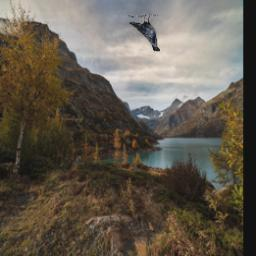Crow: (128, 14, 160, 51)
